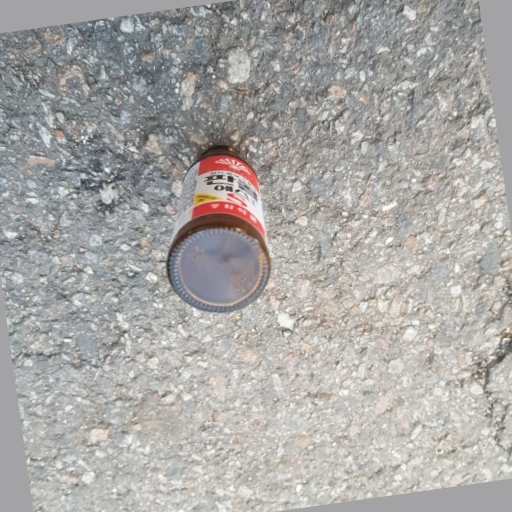Glass_3: (165, 137, 274, 316)
